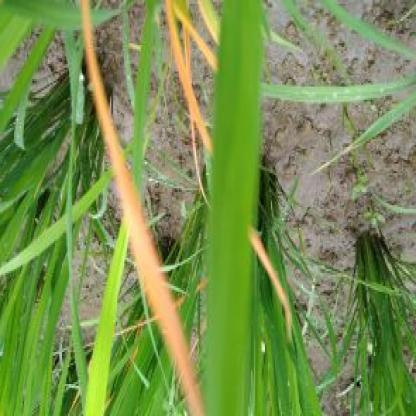Tungro: (85, 27, 182, 411)
